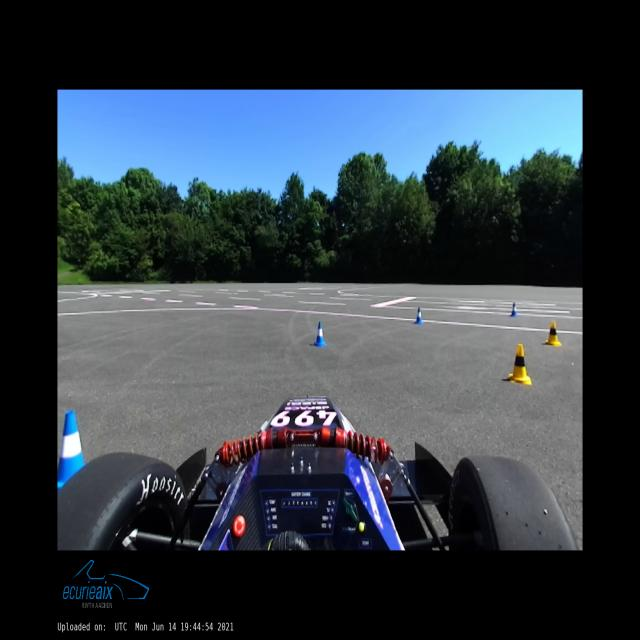blue_cone: (57, 410, 85, 490), (314, 322, 326, 347), (416, 307, 424, 324), (510, 303, 517, 316)
yellow_cone: (509, 344, 531, 386), (546, 321, 561, 347)
